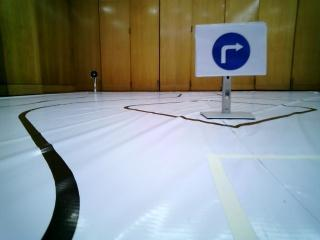right: (203, 29, 262, 72)
